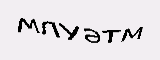П: (89, 19, 106, 46)
Р: (68, 15, 88, 44)
У: (22, 21, 39, 46)
Ш: (103, 22, 131, 46)
Ю: (37, 16, 69, 44)
